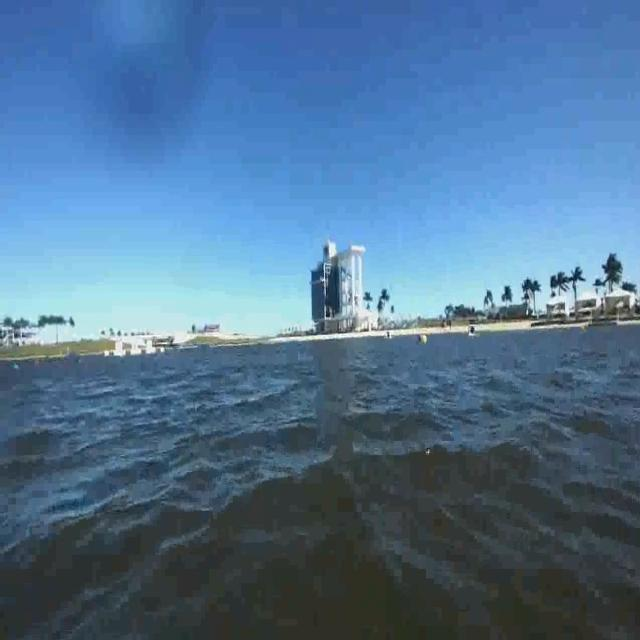yellow-buoy: (421, 335, 428, 347)
